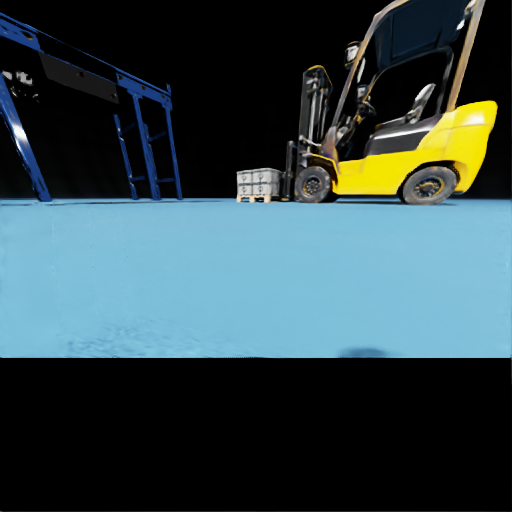transportation_area: (252, 182, 283, 194), (1, 25, 5, 28)
